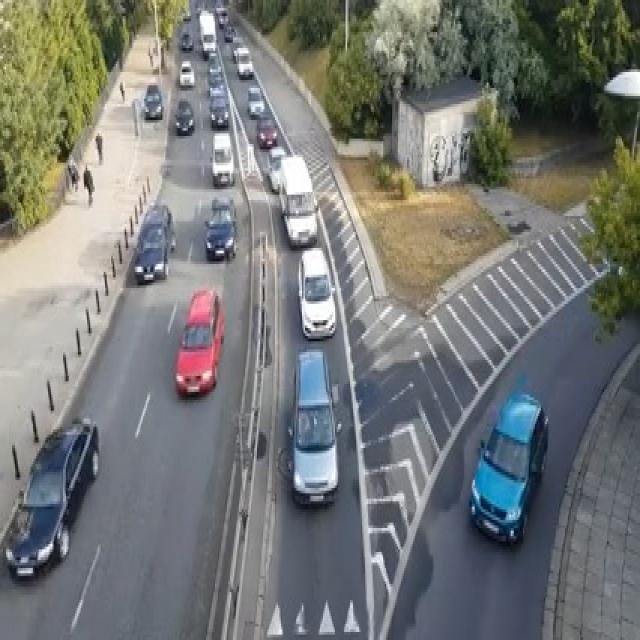car: (5, 413, 99, 579), (469, 389, 548, 544), (287, 349, 338, 507), (174, 285, 224, 395), (296, 245, 336, 339), (278, 152, 317, 248), (134, 218, 168, 282), (204, 195, 236, 261), (142, 202, 176, 250), (210, 130, 234, 186), (266, 144, 287, 192), (143, 83, 162, 120), (209, 91, 228, 128), (174, 99, 194, 133), (256, 115, 276, 146), (247, 86, 264, 118), (236, 46, 252, 78), (66, 155, 80, 184), (179, 59, 194, 85), (207, 50, 221, 74), (179, 32, 192, 51), (216, 8, 228, 27), (224, 24, 234, 40), (183, 8, 191, 21)
